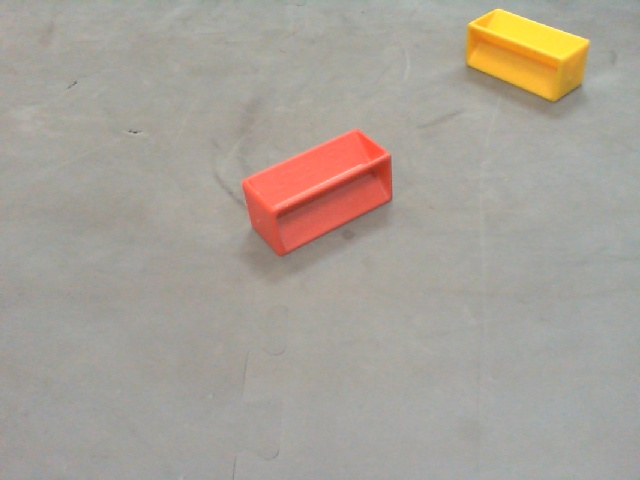RedSample: (239, 128, 393, 258)
YellowSample: (461, 8, 589, 102)
